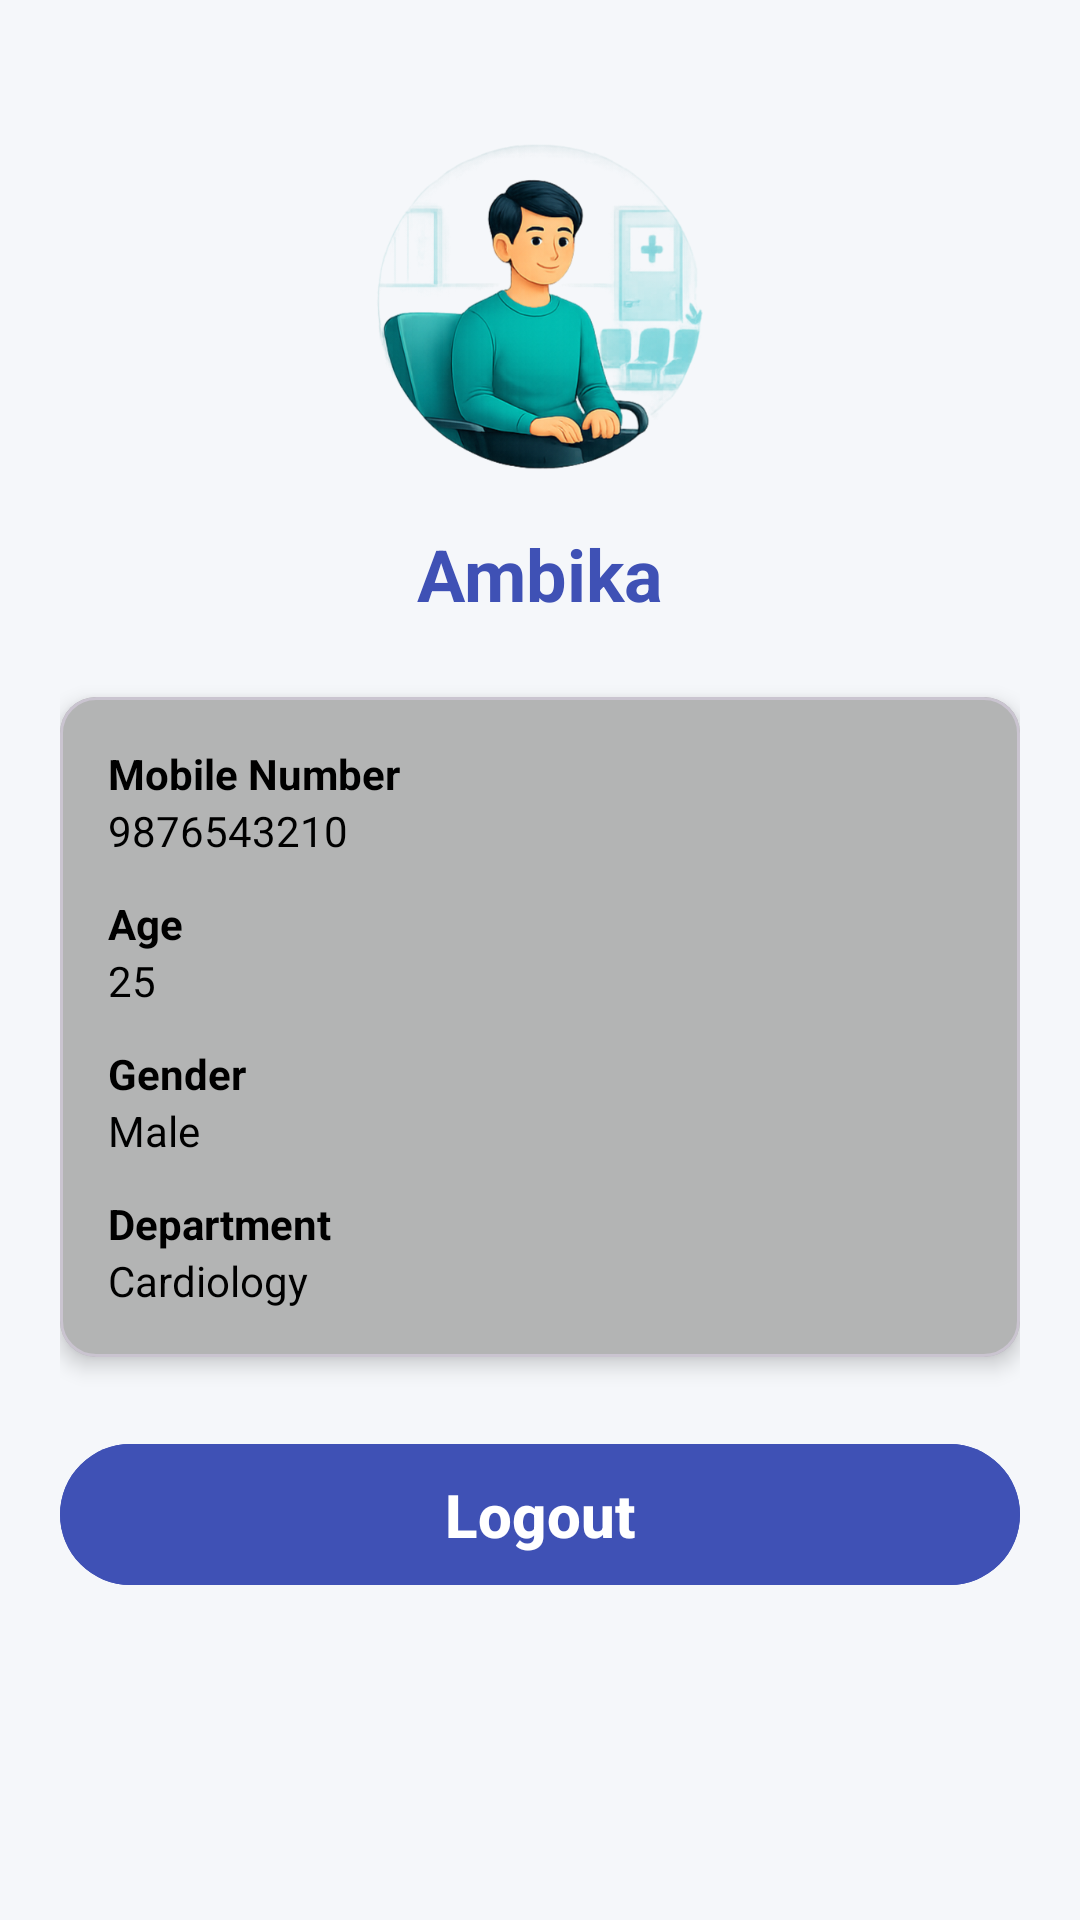

Icons on this 1080*1920 Android screen, each with its box as BBox(x1, y1, x2, y2):
patienticon: BBox(378, 180, 702, 469)
